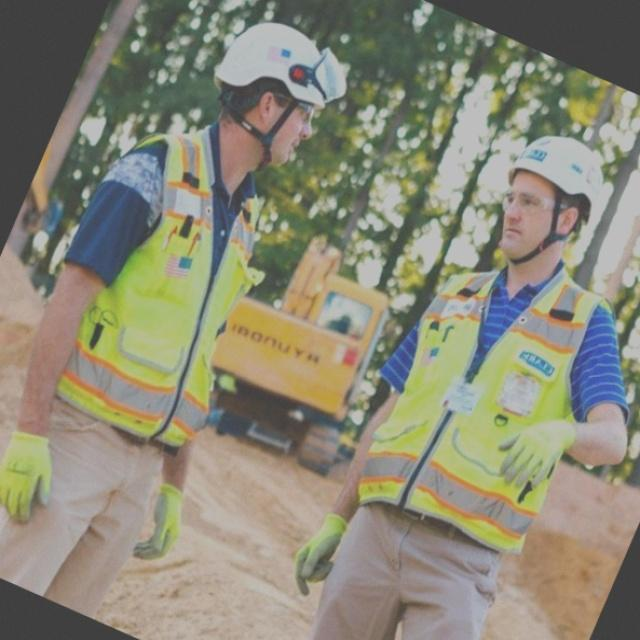helmet: (216, 45, 351, 114), (504, 135, 620, 212)
safety_vest: (351, 272, 606, 558), (66, 134, 256, 451)
